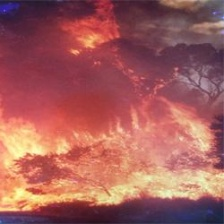fire: (1, 114, 224, 204), (62, 17, 120, 58)
